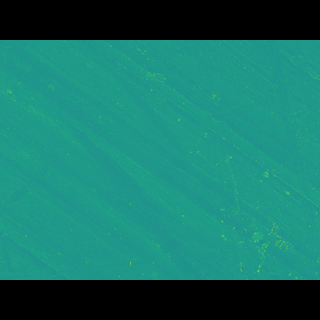Loch: (0, 134, 215, 251), (262, 69, 320, 249)
